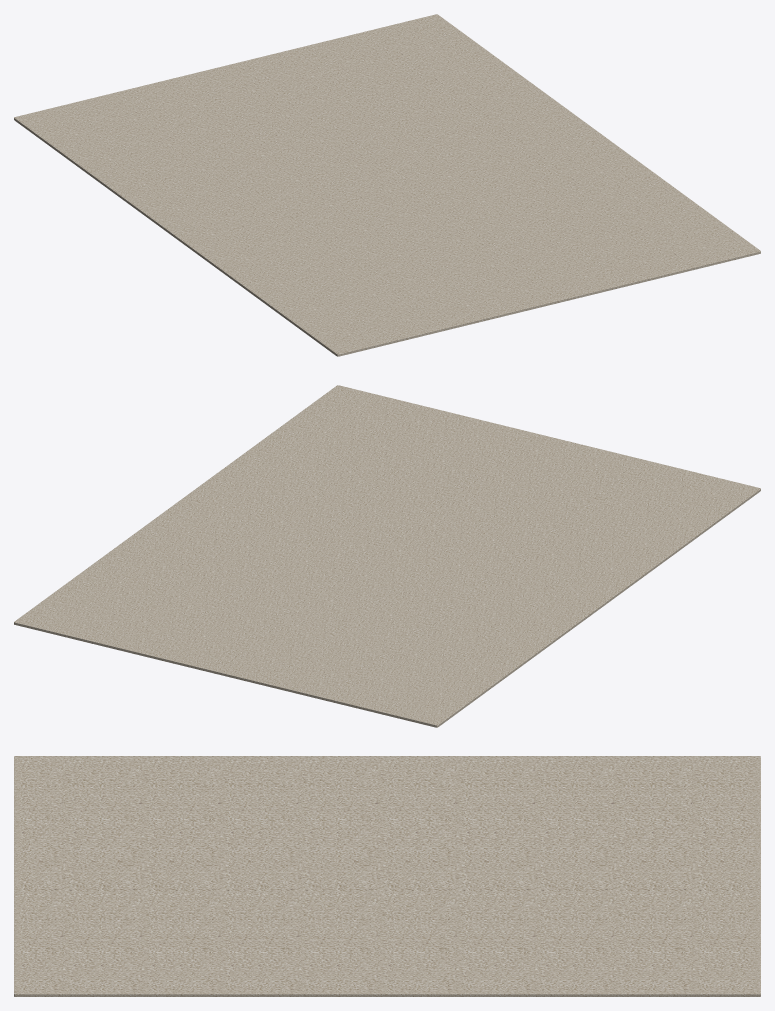
Rendered from Carpet .glb.
3 renders of one model, top to bottom at view 1: azimuth 30°, elevation 25°; view 2: azimuth 150°, elevation 25°; view 3: azimuth 270°, elevation 25°, orthographic. The views are drawn at different scales.
Visible parts, largest first — view 1: Carpet; view 2: Carpet; view 3: Carpet.
Part boxes in pixels (box(x1,y1,x2,y2)): Carpet: box(14, 14, 760, 356); Carpet: box(14, 385, 760, 727); Carpet: box(14, 756, 760, 996).
Size of the model in its own units: 2.8 by 0.0153 by 3.7.
Materials: 1 (1 with a texture image).
